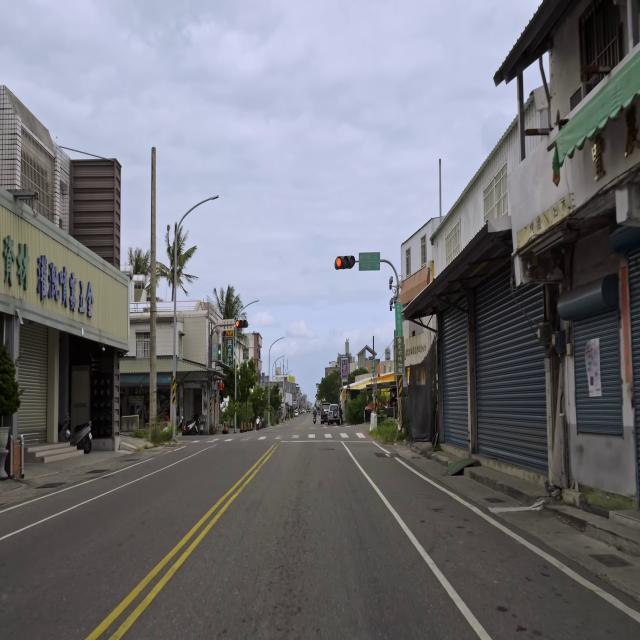red light: (334, 256, 355, 269), (235, 319, 248, 328)
